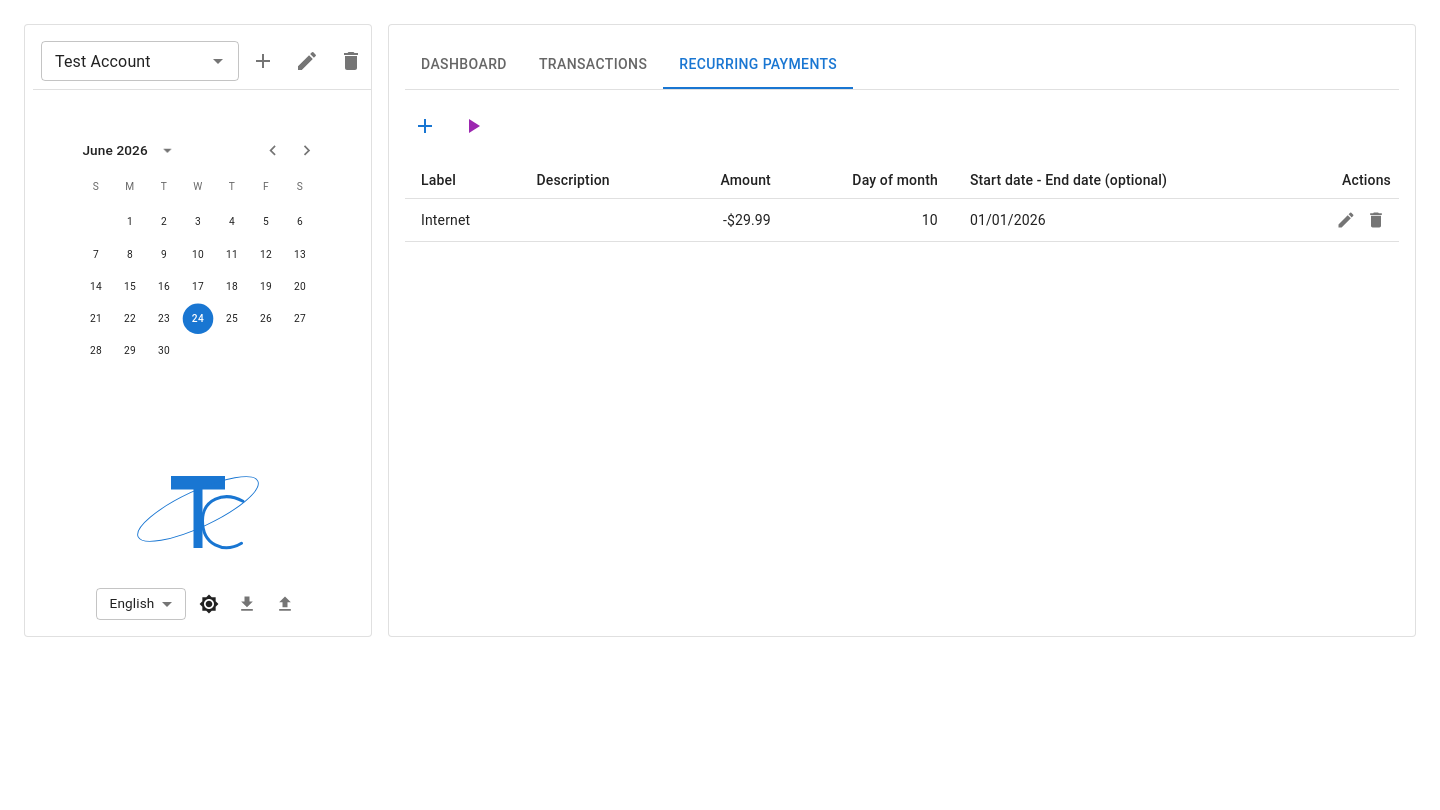
Test: TransactionEditionArea › shows cascade dialog when deleting a recurring template
Click the button named "delete recurring" at [1376, 220], box [1361, 205, 1391, 235]
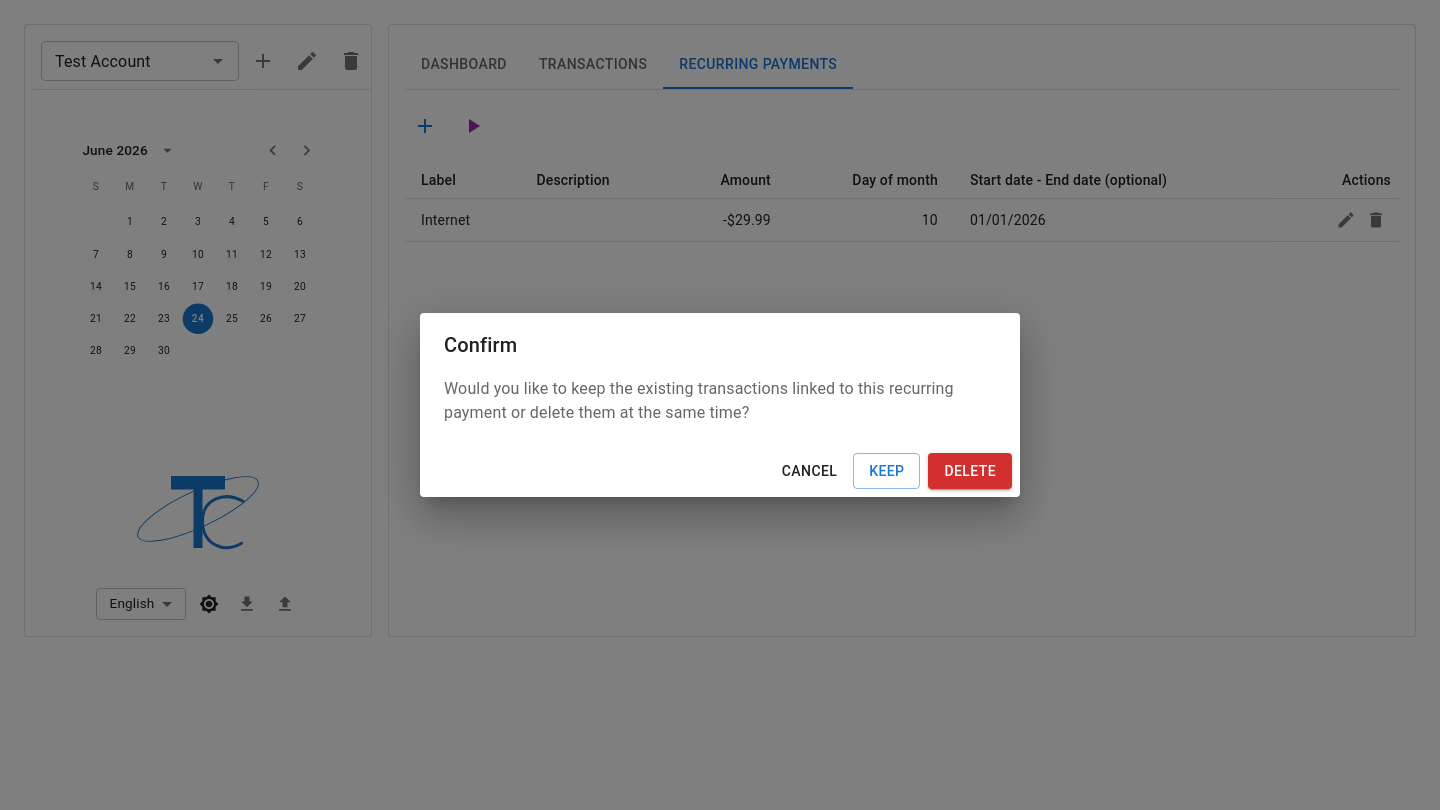
Now the text "would you like to keep the existing transactions linked to this recurring payment" is shown, box [444, 379, 954, 422]
